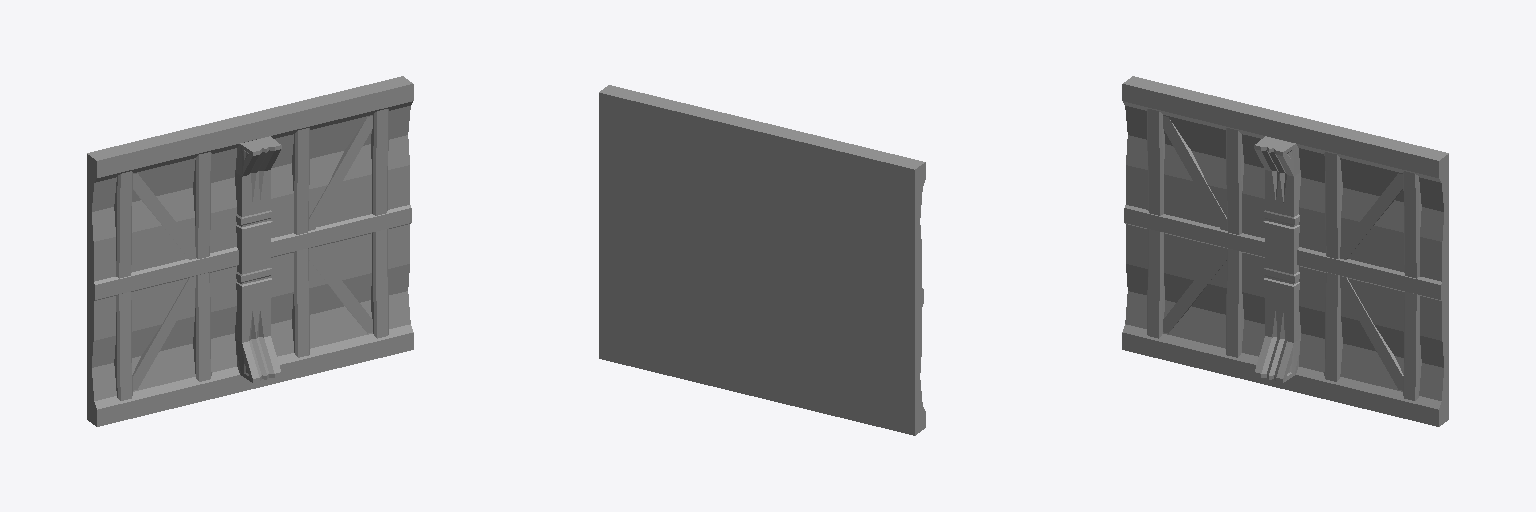
File: Wall-2.obj
3 renders of one model, left to right at view 1: azimuth 30°, elevation 25°; view 2: azimuth 150°, elevation 25°; view 3: azimuth 330°, elevation 25°, orthographic.
Parts seen in each view (by area): view 1: Cube.012_Cube.013; view 2: Cube.012_Cube.013; view 3: Cube.012_Cube.013.
Part boxes in pixels (x1,y1,x2,y2): Cube.012_Cube.013: (87,76,413,426); Cube.012_Cube.013: (599,85,925,435); Cube.012_Cube.013: (1122,76,1448,426).
Size of the model in its own units: 7.96 by 6.4 by 0.9749.